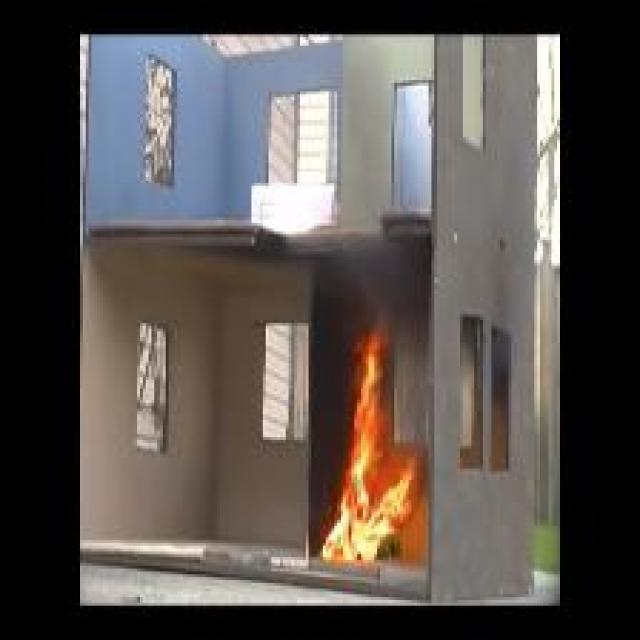Fire: (324, 329, 416, 562)
